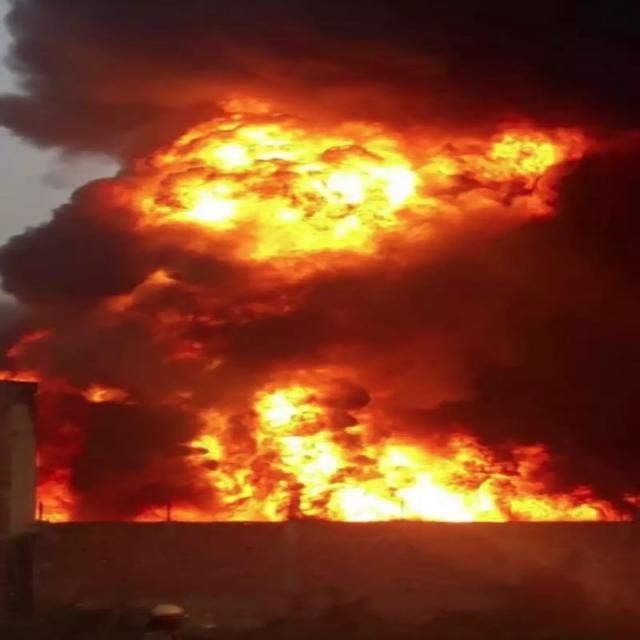Fire: (142, 102, 564, 262), (252, 396, 598, 522), (184, 416, 278, 524), (23, 442, 78, 526)
